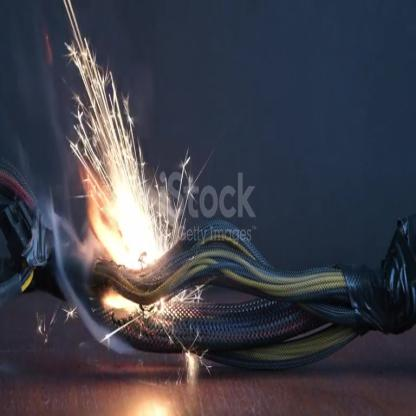fire: (62, 9, 177, 268)
smoke: (30, 81, 176, 376)
